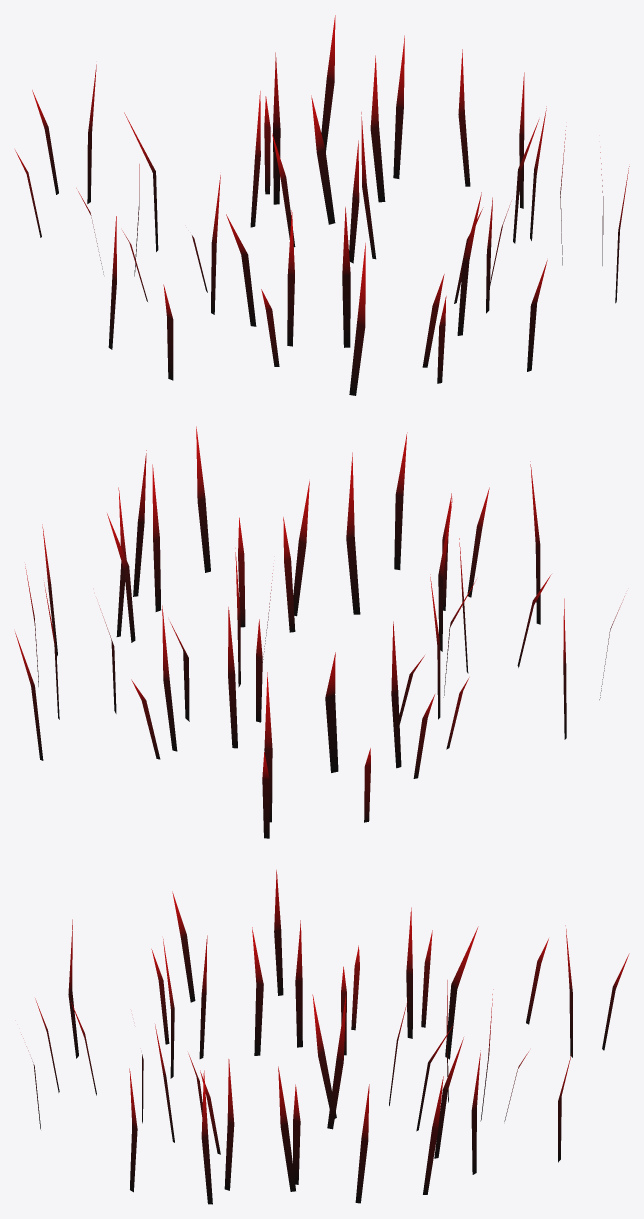
Rendered from PatchGrassTall03.fbx.
The picture shows the model from 3 angles, top to bottom: view 1: azimuth 30°, elevation 25°; view 2: azimuth 150°, elevation 25°; view 3: azimuth 270°, elevation 25°; orthographic projection. The views are drawn at different scales.
Parts seen in each view (by area): view 1: PatchGrassTall03_LOD0; view 2: PatchGrassTall03_LOD0; view 3: PatchGrassTall03_LOD0.
Part boxes in pixels (box(x1,y1,x2,y2)): PatchGrassTall03_LOD0: box(15, 15, 629, 395); PatchGrassTall03_LOD0: box(15, 426, 624, 838); PatchGrassTall03_LOD0: box(21, 870, 629, 1204).
Bounding box in the file's own units: 277 × 88.46 × 338.
